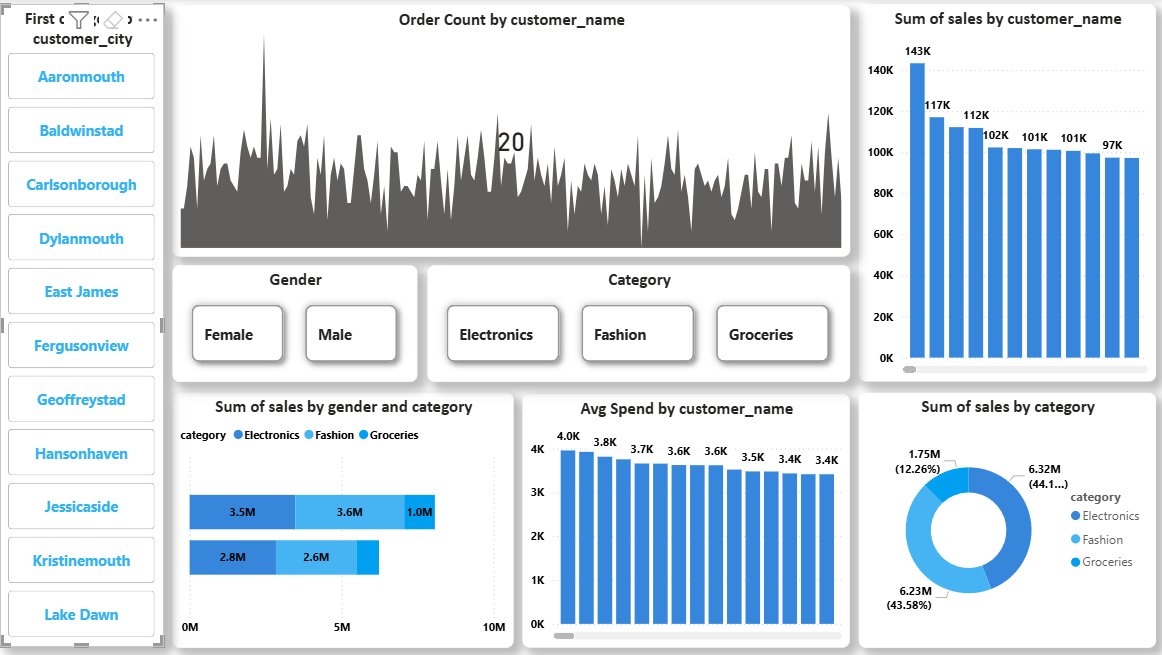

What the dashboard file says about the page in this screenshot:
{"tool":"powerbi","page":{"name":"CUSTOMER ANALYSIS","canvas":[1280,720],"ordinal":2},"visuals":[{"type":"columnChart","fields":{"Category":["public master_sales.customer_name"],"Y":["Sum(public master_sales.sales)"]},"box":[942.7,5.5,326.6,414.4],"z":0},{"type":"barChart","fields":{"Category":["public master_sales.gender"],"Y":["Sum(public master_sales.sales)"],"Series":["public master_sales.category"]},"box":[189.4,432.2,374.6,279.9],"z":1000},{"type":"kpi","fields":{"TrendLine":["public master_sales.customer_name"],"Indicator":["public master_sales.Order Count"]},"box":[189.4,6.9,743.7,275.8],"z":2000},{"type":"lineStackedColumnComboChart","fields":{"Category":["public master_sales.customer_name"],"Y":["public master_sales.Avg Spend"]},"box":[573.6,433.6,359.5,278.6],"z":3000},{"type":"donutChart","fields":{"Category":["public master_sales.category"],"Y":["Sum(public master_sales.sales)"]},"box":[942.7,432.2,326.6,279.9],"z":4000},{"type":"advancedSlicerVisual","fields":{"Values":["public master_sales.customer_city"]},"box":[0,5.5,179.8,705.3],"z":5000},{"type":"advancedSlicerVisual","title":"Gender","fields":{"Values":["public master_sales.gender"]},"box":[189.4,292.3,269,127.6],"z":6000},{"type":"advancedSlicerVisual","title":"Category","fields":{"Values":["public master_sales.category"]},"box":[469.3,292.3,463.8,127.6],"z":7000}]}

Visuals, with their boxes in screenshot pixels (x1, y1, x2, y2), scaled from the page's 1280x720 canvas onto the 1162x655 screenshot:
columnChart - public master_sales.customer_name x Sum(public master_sales.sales): select_region(856, 5, 1152, 382)
barChart - public master_sales.gender x Sum(public master_sales.sales): select_region(172, 393, 512, 648)
kpi - public master_sales.customer_name x public master_sales.Order Count: select_region(172, 6, 847, 257)
lineStackedColumnComboChart - public master_sales.customer_name x public master_sales.Avg Spend: select_region(521, 394, 847, 648)
donutChart - public master_sales.category x Sum(public master_sales.sales): select_region(856, 393, 1152, 648)
advancedSlicerVisual - public master_sales.customer_city: select_region(0, 5, 163, 647)
"Gender" advancedSlicerVisual: select_region(172, 266, 416, 382)
"Category" advancedSlicerVisual: select_region(426, 266, 847, 382)
